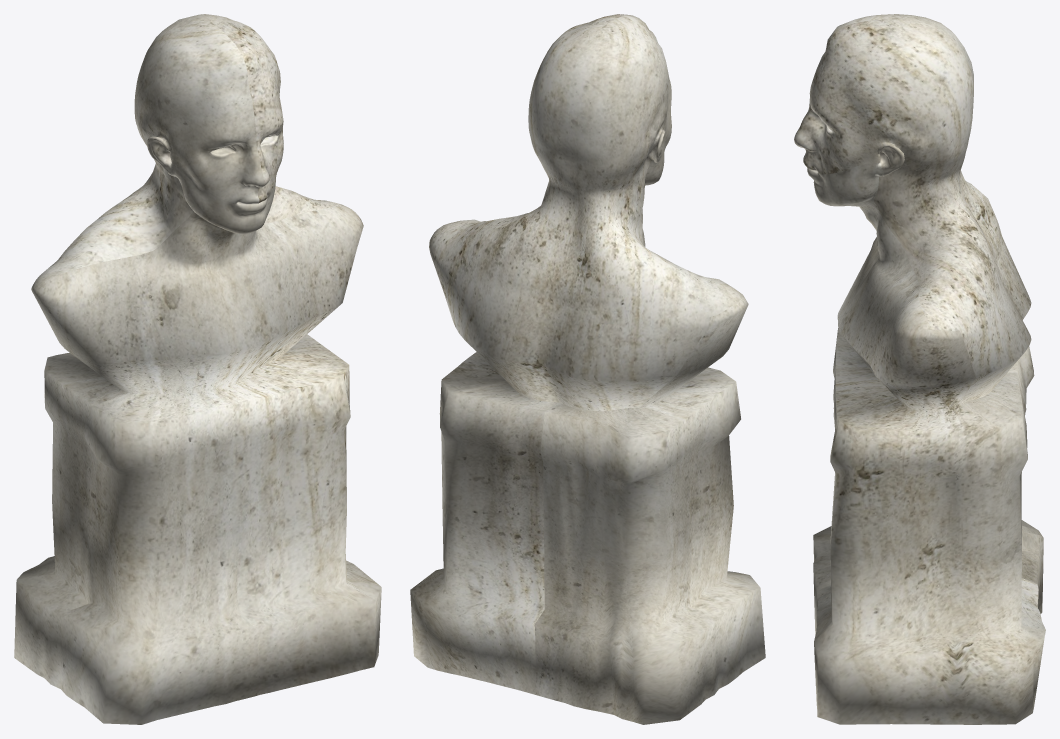
File: head_statute.FBX
3 views of the same model, side by side, from view 1: azimuth 30°, elevation 25°; view 2: azimuth 150°, elevation 25°; view 3: azimuth 270°, elevation 25° (orthographic). The views are drawn at different scales.
Visible parts, largest first — view 1: DemoHead_s_Low; view 2: DemoHead_s_Low; view 3: DemoHead_s_Low.
Boxes of the visible parts, <box> form: DemoHead_s_Low: <box>14,14,381,724</box>; DemoHead_s_Low: <box>410,14,765,724</box>; DemoHead_s_Low: <box>794,14,1045,724</box>.
Bounding box in the file's own units: 1.04 × 2 × 0.7149.
Materials: 1 (1 with a texture image).
